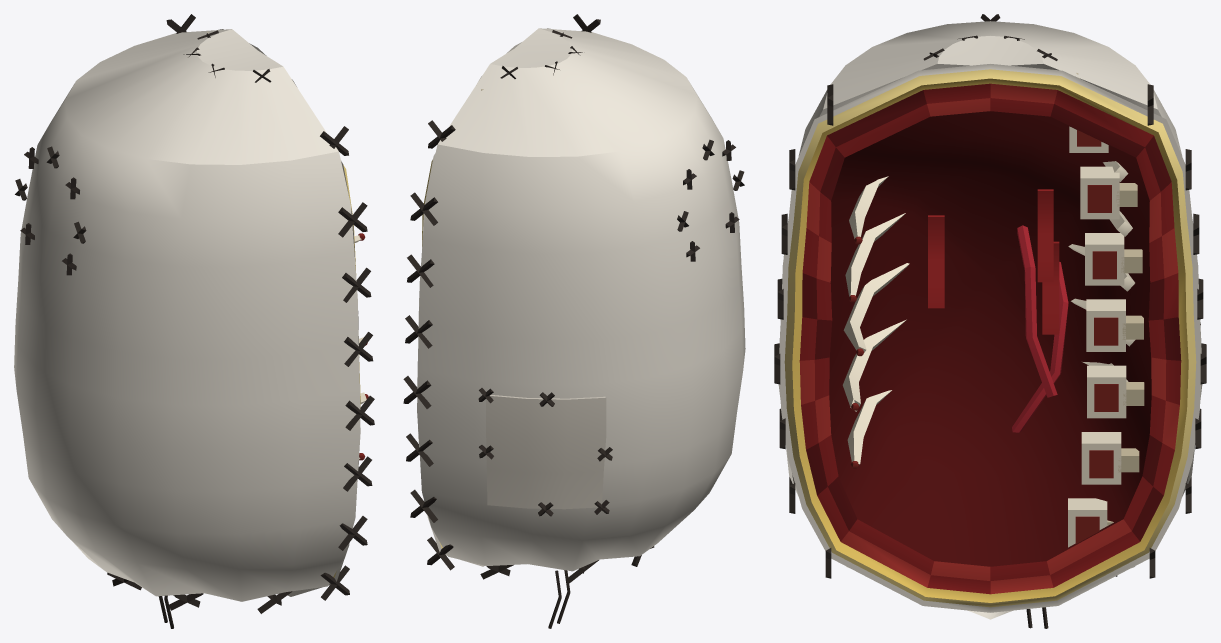
File: survivor_torso_R.glb
The picture shows the model from 3 angles, left to right: view 1: azimuth 30°, elevation 25°; view 2: azimuth 150°, elevation 25°; view 3: azimuth 270°, elevation 25°; orthographic projection. The views are drawn at different scales.
Parts seen in each view (by area): view 1: survivor_torso_R; view 2: survivor_torso_R; view 3: survivor_torso_R.
Boxes of the visible parts, left/top/right/bottom form: survivor_torso_R: left=14, top=14, right=374, bottom=628; survivor_torso_R: left=403, top=14, right=745, bottom=628; survivor_torso_R: left=774, top=14, right=1206, bottom=628.
Size of the model in its own units: 0.2111 by 0.4367 by 0.2853.
